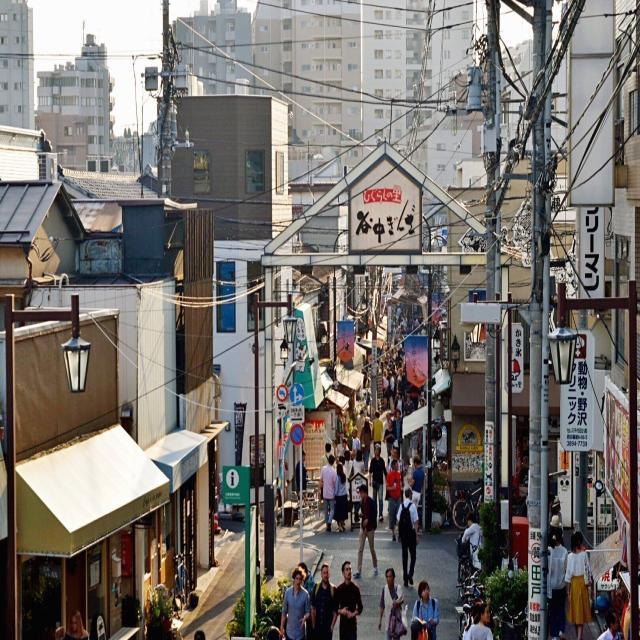body: (378, 298, 426, 392), (564, 530, 592, 639), (546, 526, 570, 640), (352, 482, 378, 579), (395, 484, 419, 587), (307, 562, 339, 639), (332, 560, 363, 639), (279, 564, 311, 639), (376, 566, 408, 640), (410, 578, 440, 639), (368, 441, 390, 523), (288, 518, 336, 551), (297, 561, 316, 640), (320, 453, 338, 533), (407, 453, 425, 532), (386, 458, 402, 544), (461, 511, 483, 571), (349, 448, 365, 523), (332, 460, 348, 533), (594, 604, 625, 640), (389, 446, 407, 504), (334, 454, 351, 513), (469, 601, 495, 639), (294, 448, 312, 494), (341, 449, 353, 514), (65, 607, 89, 638), (359, 414, 371, 474), (370, 409, 384, 458), (403, 392, 415, 442), (384, 419, 396, 466), (549, 493, 563, 532), (393, 409, 403, 461), (321, 442, 336, 470), (349, 425, 361, 460), (387, 370, 395, 416), (356, 408, 366, 441), (382, 411, 393, 441), (394, 391, 404, 420), (386, 444, 396, 471), (330, 438, 338, 471), (576, 526, 586, 552), (362, 387, 373, 406), (340, 437, 350, 456), (382, 369, 389, 396), (194, 627, 206, 640), (417, 392, 426, 409), (474, 596, 484, 605)
